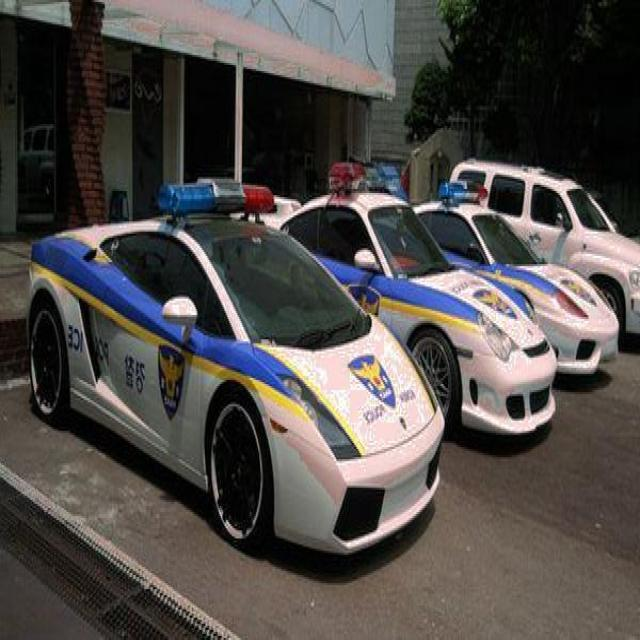fire_truck: (28, 181, 446, 565), (290, 162, 556, 435), (410, 177, 620, 380)
